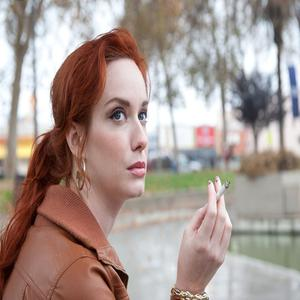cigarette: (210, 180, 231, 203)
